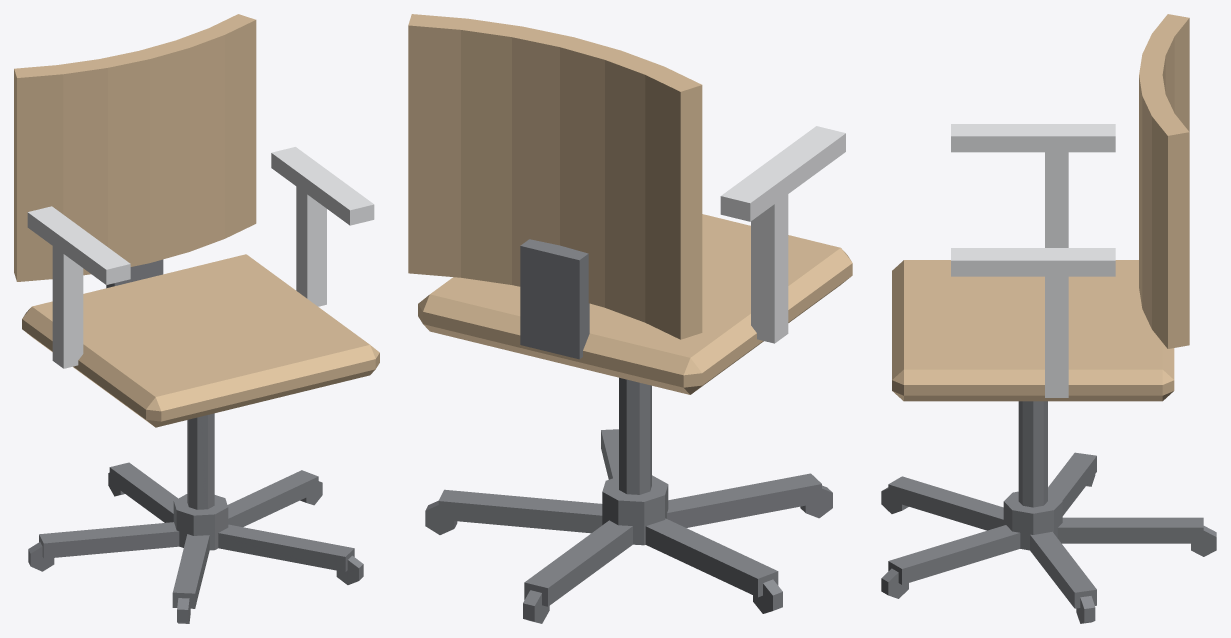
The model's file is office_chair.glb.
3 views of the same model, side by side, from view 1: azimuth 30°, elevation 25°; view 2: azimuth 150°, elevation 25°; view 3: azimuth 270°, elevation 25° (orthographic). The views are drawn at different scales.
Visible parts, largest first — view 1: office_chair; view 2: office_chair; view 3: office_chair.
Part boxes in pixels (x1,y1,x2,y2): office_chair: (14, 14, 379, 623); office_chair: (408, 14, 852, 623); office_chair: (881, 14, 1216, 623).
Bounding box in the file's own units: 0.599 × 0.9 × 0.5697.
